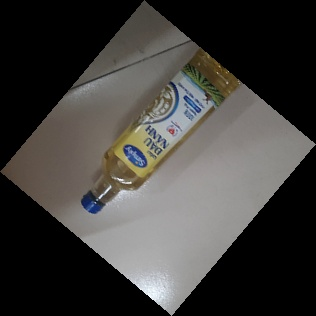Simply: (75, 40, 252, 216)
